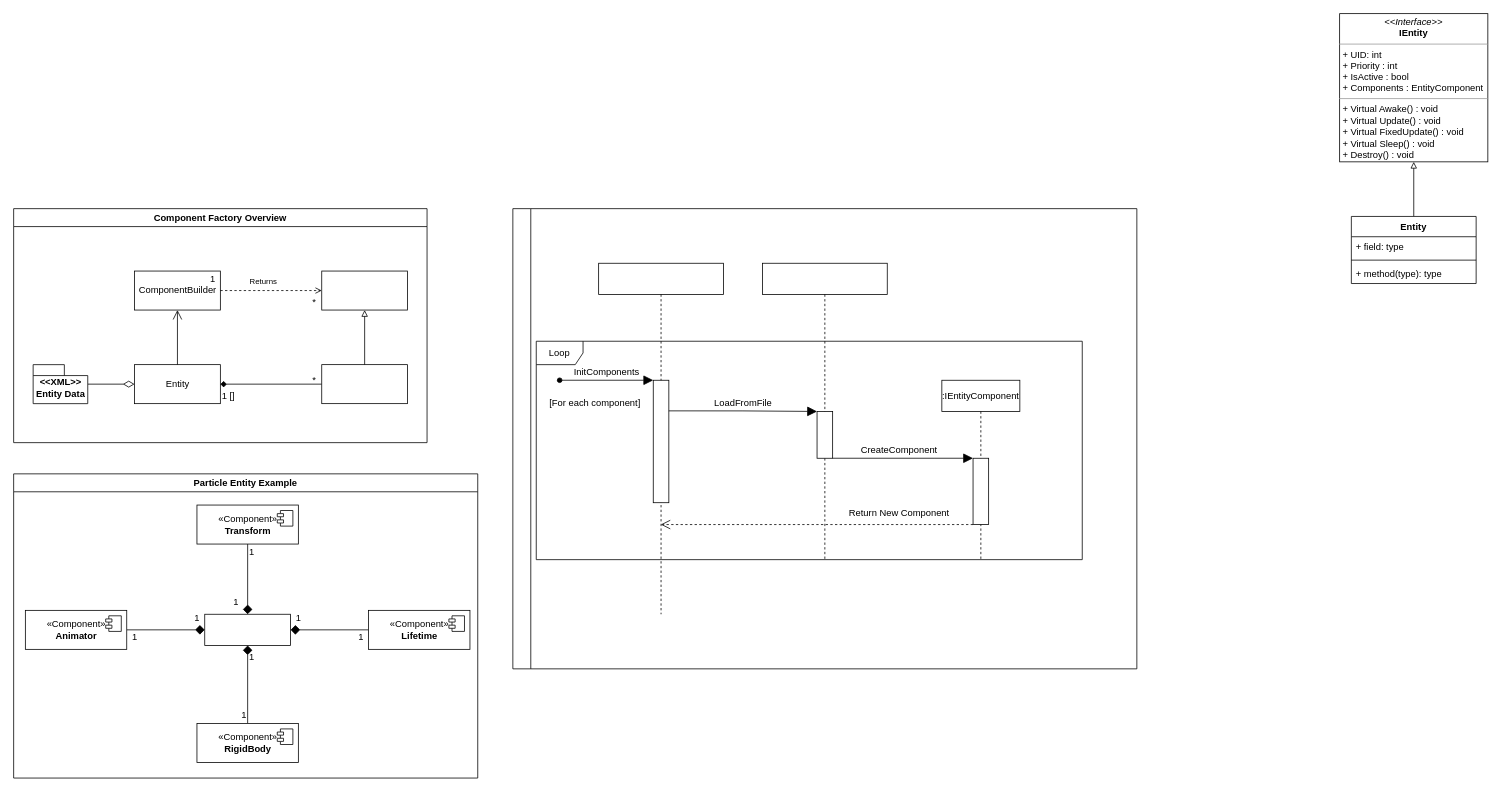
Some shapes in this 1502 by 792 pixel diagram are drawn without their labels. The box of each missing label's shape, as (x1, y1, x2, y2) in pixels:
:ComponentBuilder: (762, 262, 887, 560)
:Entity: (598, 262, 723, 614)
Entity Component Creation Sequence Diagram: (512, 208, 1137, 669)
EntityComponent: (321, 364, 408, 404)
Particle : Entity: (204, 613, 291, 645)
«interface» IEntityComponent: (321, 270, 408, 310)
